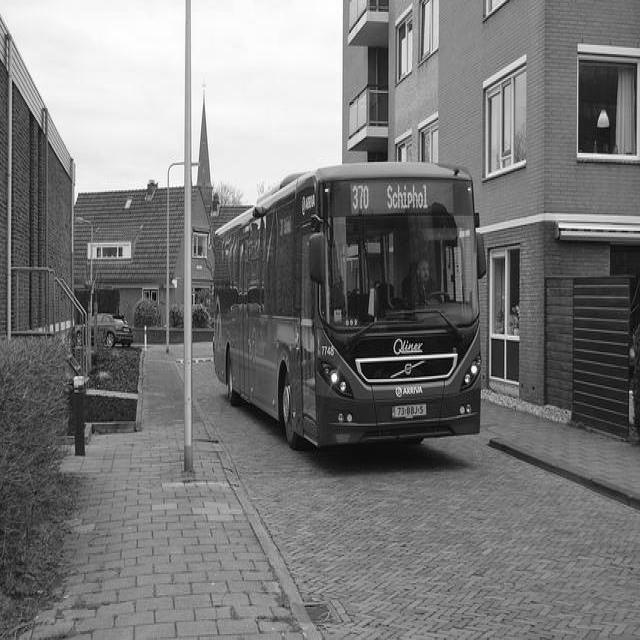vehicle: (213, 168, 480, 445), (72, 315, 133, 349)
